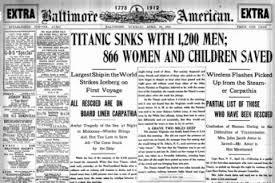Printing industry: (3, 3, 275, 183)
